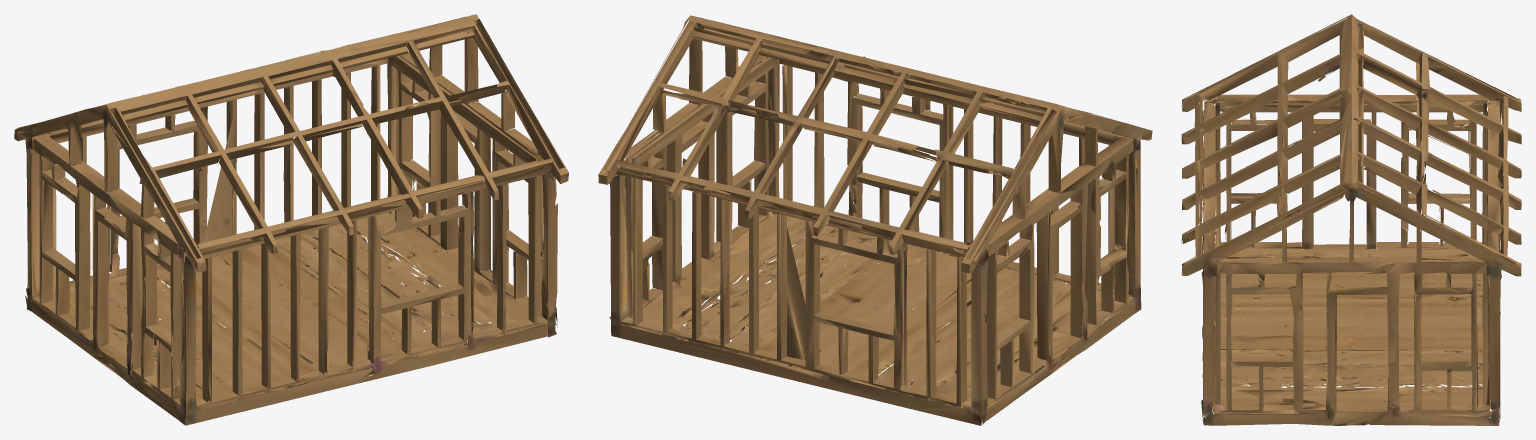
File: frame-lite.glb
3 renders of one model, left to right at view 1: azimuth 30°, elevation 25°; view 2: azimuth 150°, elevation 25°; view 3: azimuth 270°, elevation 25°, orthographic. The views are drawn at different scales.
Parts seen in each view (by area): view 1: world; view 2: world; view 3: world.
Boxes of the visible parts, <box> form: world: <box>14,14,568,425</box>; world: <box>598,15,1152,425</box>; world: <box>1181,14,1521,425</box>.
Bounding box in the file's own units: 1.01 × 0.6727 × 0.8514.
Materials: 1 (1 with a texture image).
